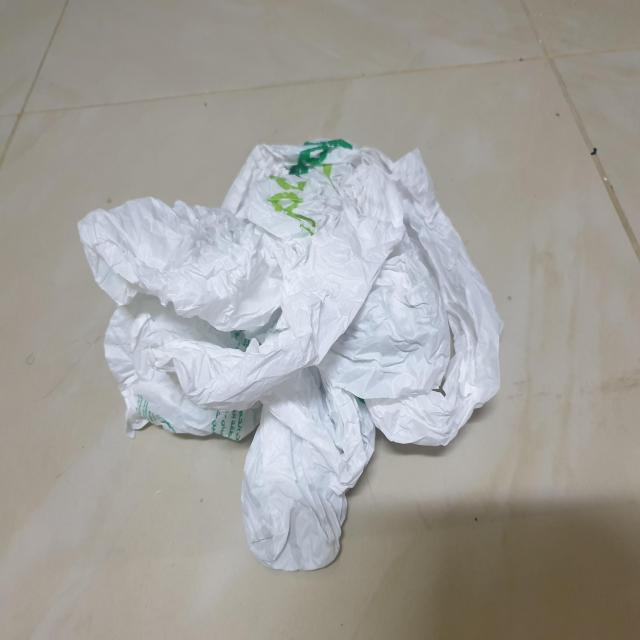plastic bag: (69, 120, 514, 586)
